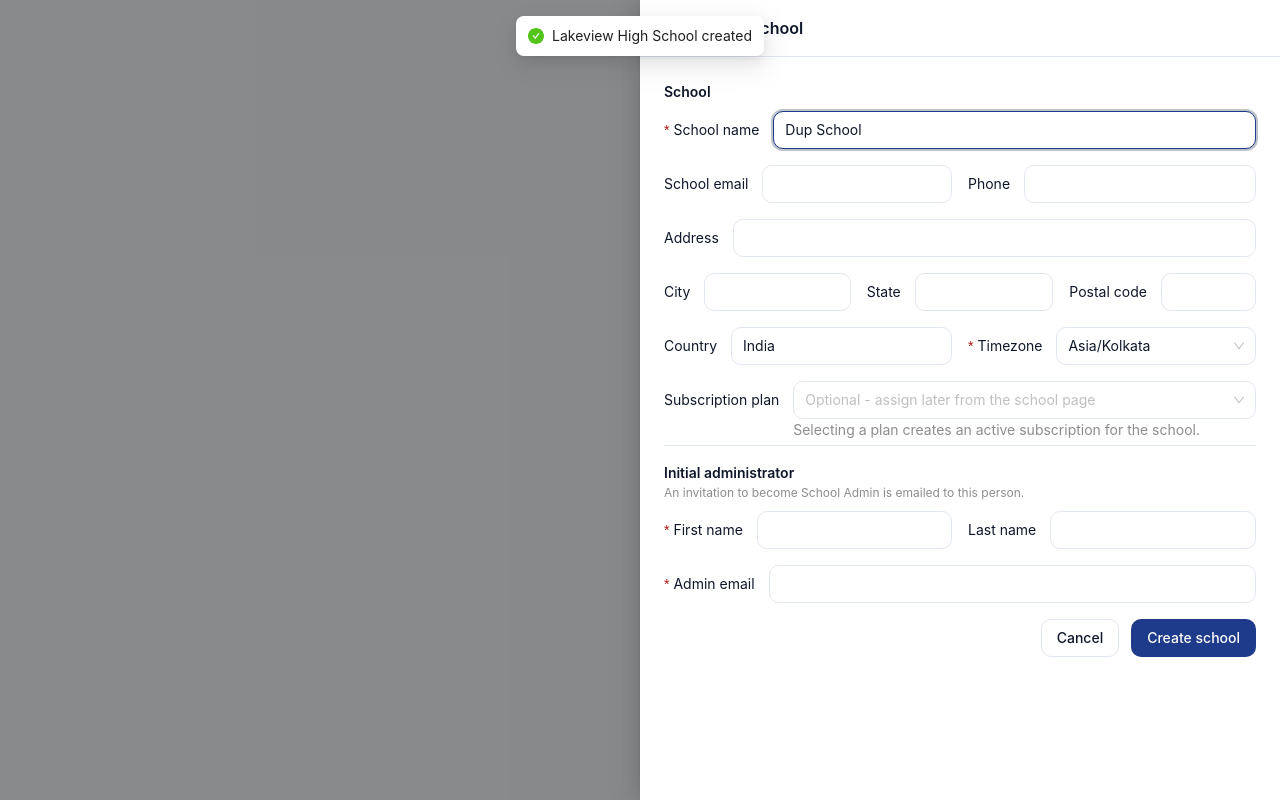
Test: CreateSchoolDrawer › maps server field errors onto the form
Earlier steps of the test are not shown.
In the field labelled "First name": x=854, y=530 [757,511,952,549], type "Dup"
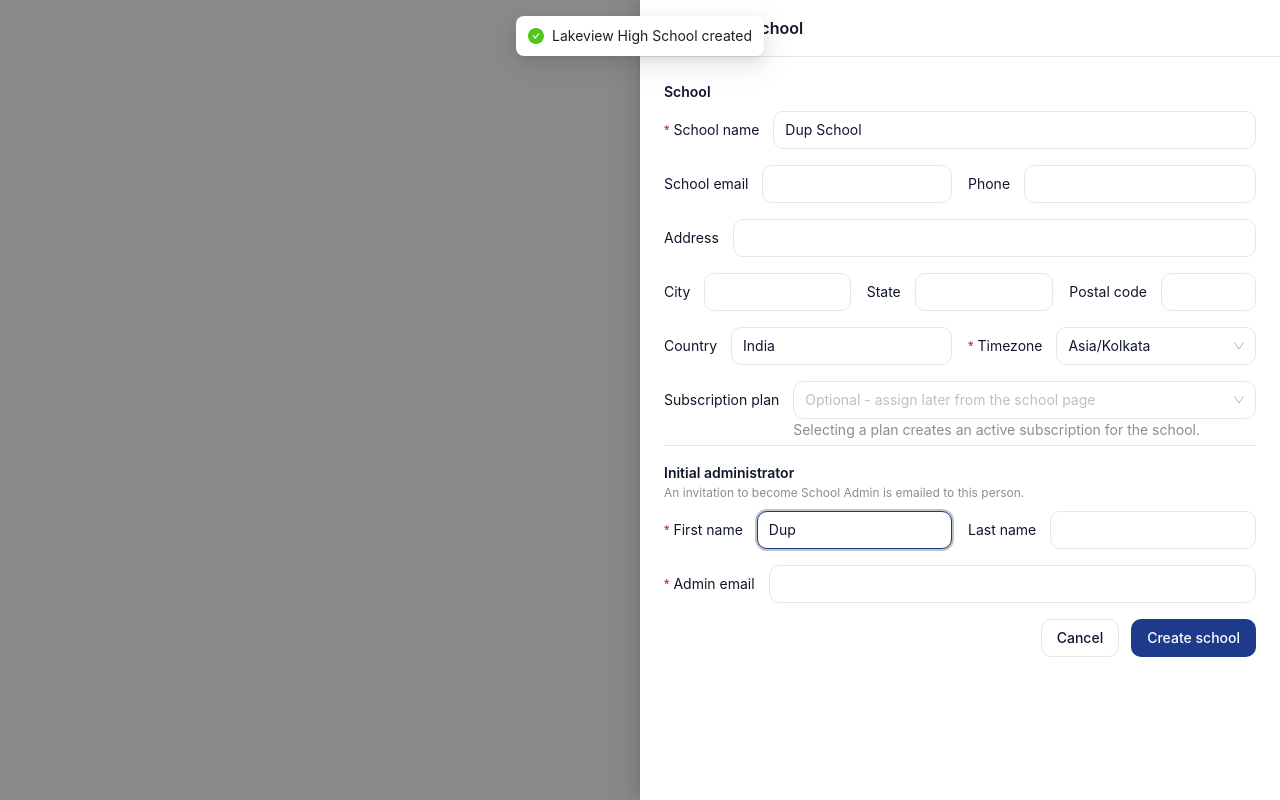
In the field labelled "Admin email": x=1012, y=584 [769,565,1256,603], type "dup@x.demo"
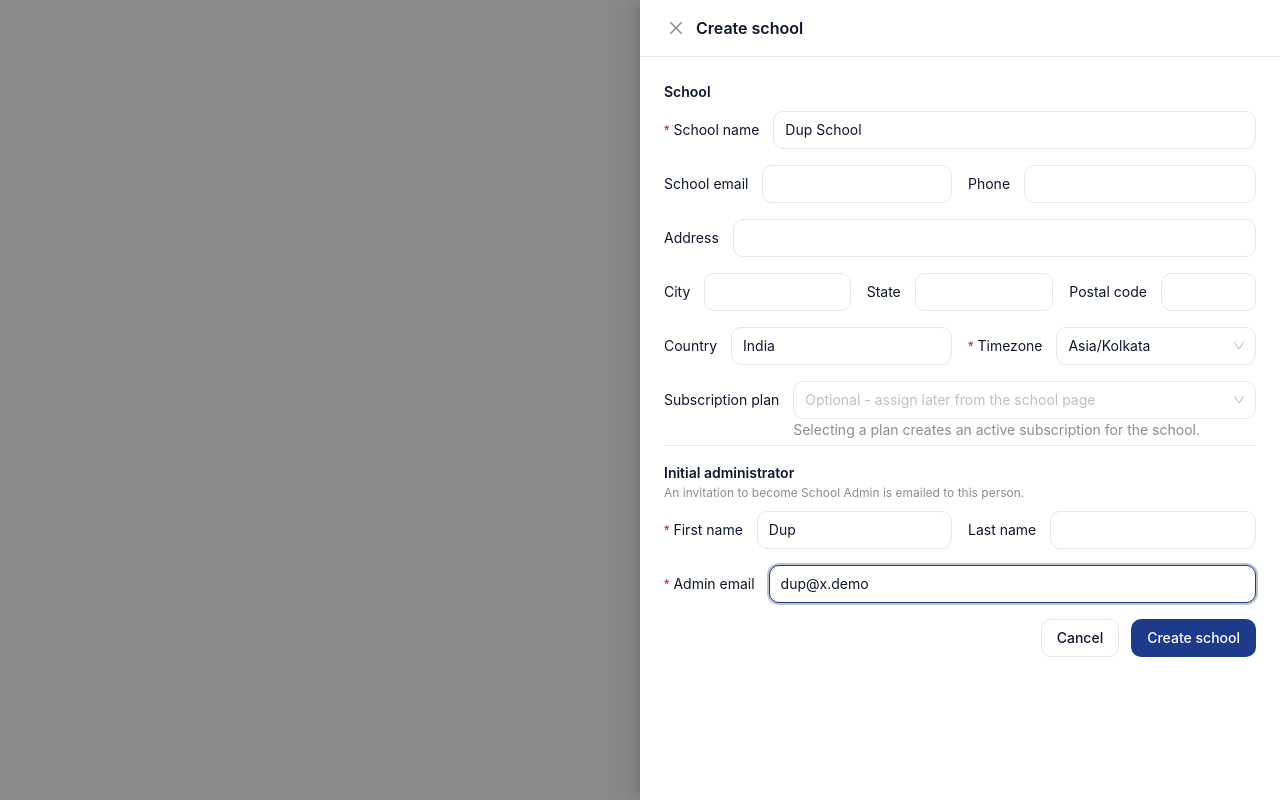
Click the button "Create school": x=1194, y=638 [1131,619,1256,657]
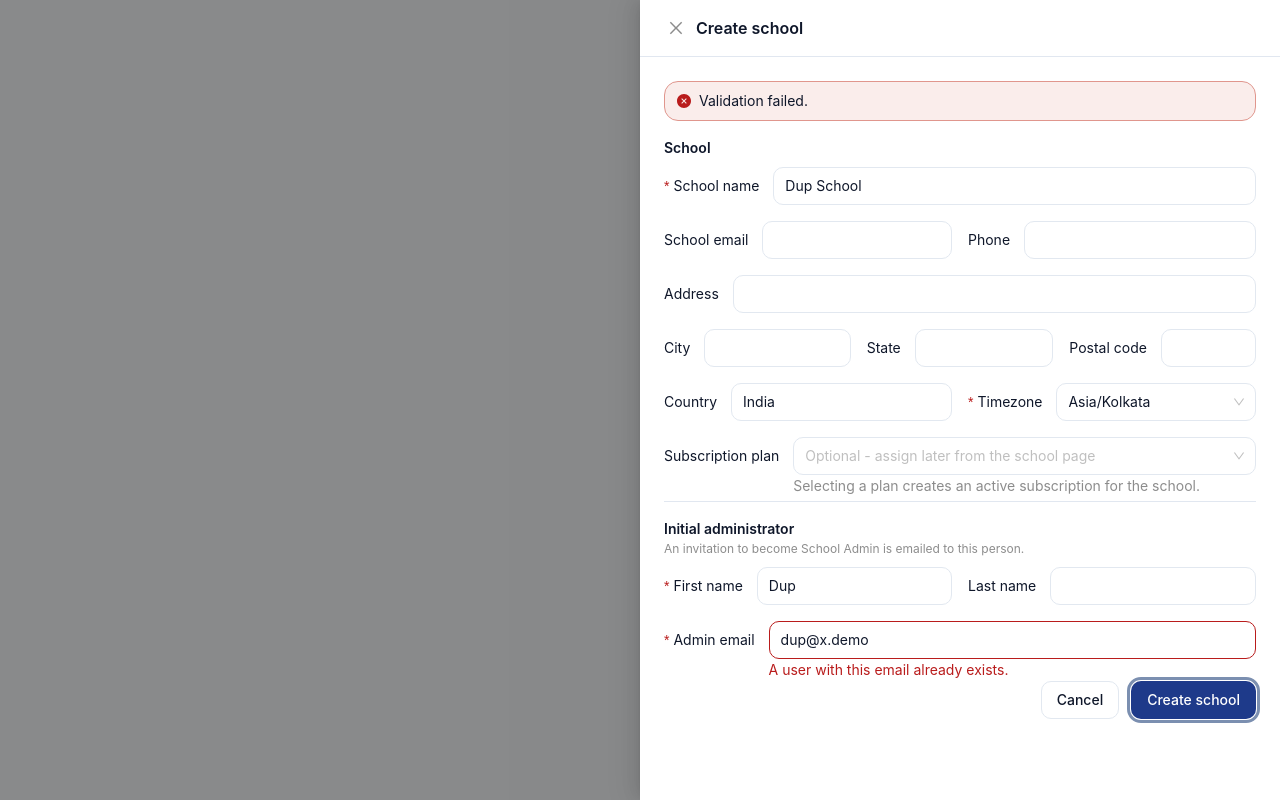
expect the text "A user with this email already exists." is shown: met, box [769,661,1008,678]
